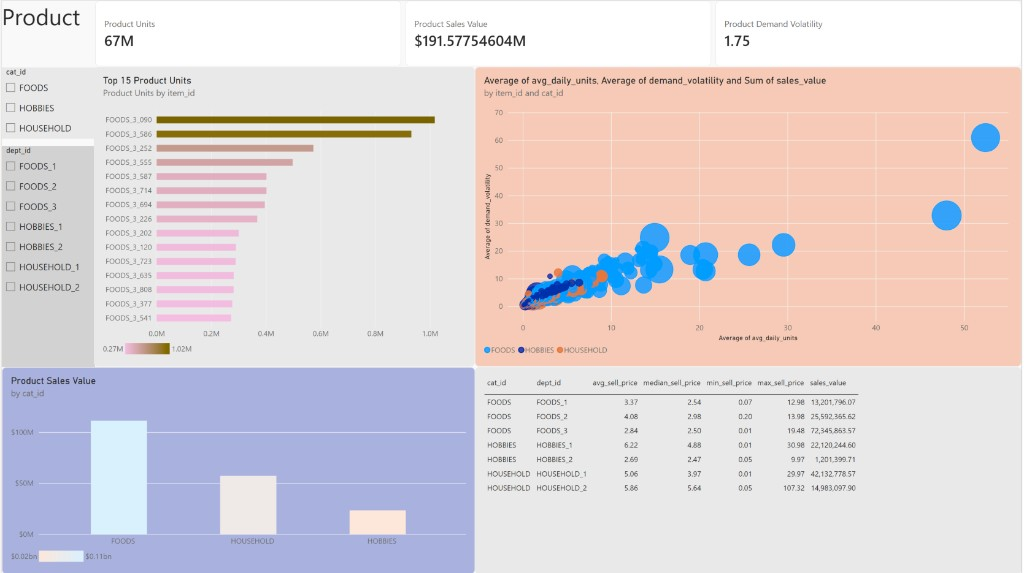

Layout of this report page (visuals, bound fields, positions):
{"tool":"powerbi","page":{"name":"Page 3","canvas":[1920,1080],"ordinal":2},"visuals":[{"type":"slicer","fields":{"Values":["`workspace` `walmart_m5_gold` `dim_product`.cat_id"]},"box":[0,125.7,175.7,134.6],"z":0},{"type":"slicer","fields":{"Values":["`workspace` `walmart_m5_gold` `dim_product`.dept_id"]},"box":[0,273.5,175.7,301.2],"z":1000},{"type":"clusteredBarChart","title":"Top 15 Product Units","fields":{"Category":["`workspace` `walmart_m5_gold` `agg_product_performance`.item_id"],"Y":["Table.Product Units"]},"box":[173.8,125.3,717.1,565],"z":2000},{"type":"cardVisual","fields":{"Data":["Table.Product Units","Table.Product Sales Value","Table.Product Demand Volatility"]},"box":[567.7,0,1352.3,125.7],"z":3000},{"type":"clusteredColumnChart","fields":{"Category":["`workspace` `walmart_m5_gold` `agg_product_performance`.cat_id"],"Y":["Table.Product Sales Value"]},"box":[0,690.3,891,389.9],"z":4000},{"type":"scatterChart","fields":{"Category":["`workspace` `walmart_m5_gold` `agg_product_performance`.item_id"],"Series":["`workspace` `walmart_m5_gold` `agg_product_performance`.cat_id"],"Size":["Sum(`workspace` `walmart_m5_gold` `agg_product_performance`.sales_value)"],"X":["Avg(`workspace` `walmart_m5_gold` `agg_product_performance`.avg_daily_units)"],"Y":["Avg(`workspace` `walmart_m5_gold` `agg_product_performance`.demand_volatility)"]},"box":[891,125.3,1029,565],"z":5000},{"type":"tableEx","fields":{"Values":["`workspace` `walmart_m5_gold` `agg_price_analysis`.cat_id","`workspace` `walmart_m5_gold` `agg_price_analysis`.dept_id","`workspace` `walmart_m5_gold` `agg_price_analysis`.avg_sell_price","`workspace` `walmart_m5_gold` `agg_price_analysis`.median_sell_price","`workspace` `walmart_m5_gold` `agg_price_analysis`.min_sell_price","`workspace` `walmart_m5_gold` `agg_price_analysis`.max_sell_price","`workspace` `walmart_m5_gold` `agg_price_analysis`.sales_value"]},"box":[891,690.3,1029,389.9],"z":6000}]}

Visuals, with their boxes in screenshot pixels (x1, y1, x2, y2), scaled from the page's 1920x1080 canvas onto the 1024x573 screenshot:
slicer - `workspace` `walmart_m5_gold` `dim_product`.cat_id: box=[0, 67, 94, 138]
slicer - `workspace` `walmart_m5_gold` `dim_product`.dept_id: box=[0, 145, 94, 305]
"Top 15 Product Units" clusteredBarChart: box=[93, 66, 475, 366]
cardVisual - Table.Product Units x Table.Product Sales Value: box=[303, 0, 1023, 67]
clusteredColumnChart - `workspace` `walmart_m5_gold` `agg_product_performance`.cat_id x Table.Product Sales Value: box=[0, 366, 475, 572]
scatterChart - `workspace` `walmart_m5_gold` `agg_product_performance`.item_id x `workspace` `walmart_m5_gold` `agg_product_performance`.cat_id: box=[475, 66, 1023, 366]
tableEx - `workspace` `walmart_m5_gold` `agg_price_analysis`.cat_id x `workspace` `walmart_m5_gold` `agg_price_analysis`.dept_id: box=[475, 366, 1023, 572]
